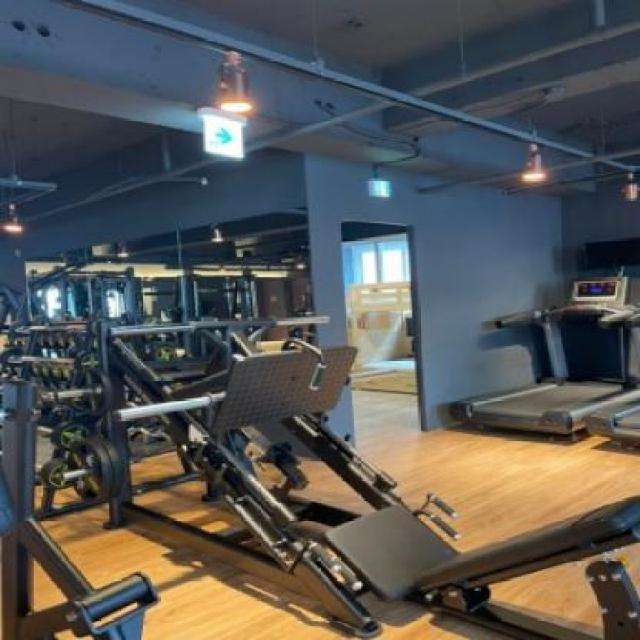leg press: (67, 294, 640, 640)
